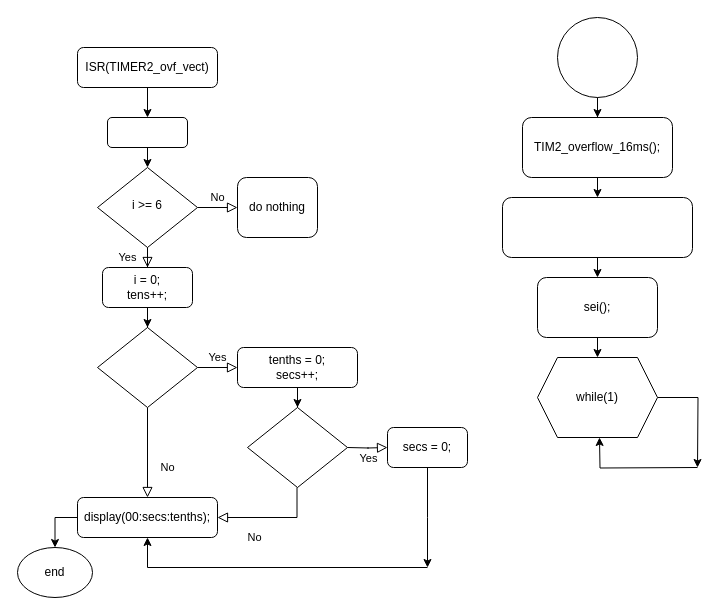
Some shapes in this 724 by 615 pixel diagram are drawn without their labels. Each missing label, with the centre of its shape:
i++: the point at 147,132
secs >= 60: the point at 297,447
tens >= 10: the point at 147,367
TIM2_overflow_interrupt_enable();: the point at 597,227
void main(): the point at 597,57
